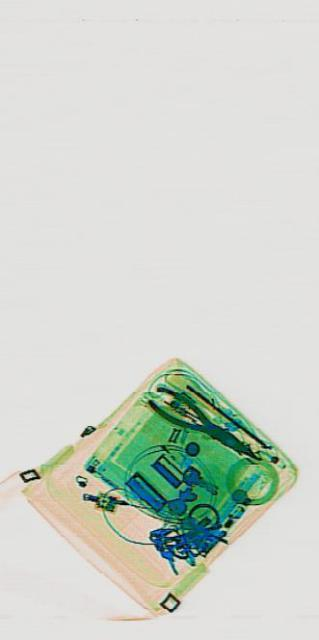Pliers: (145, 376, 260, 469)
